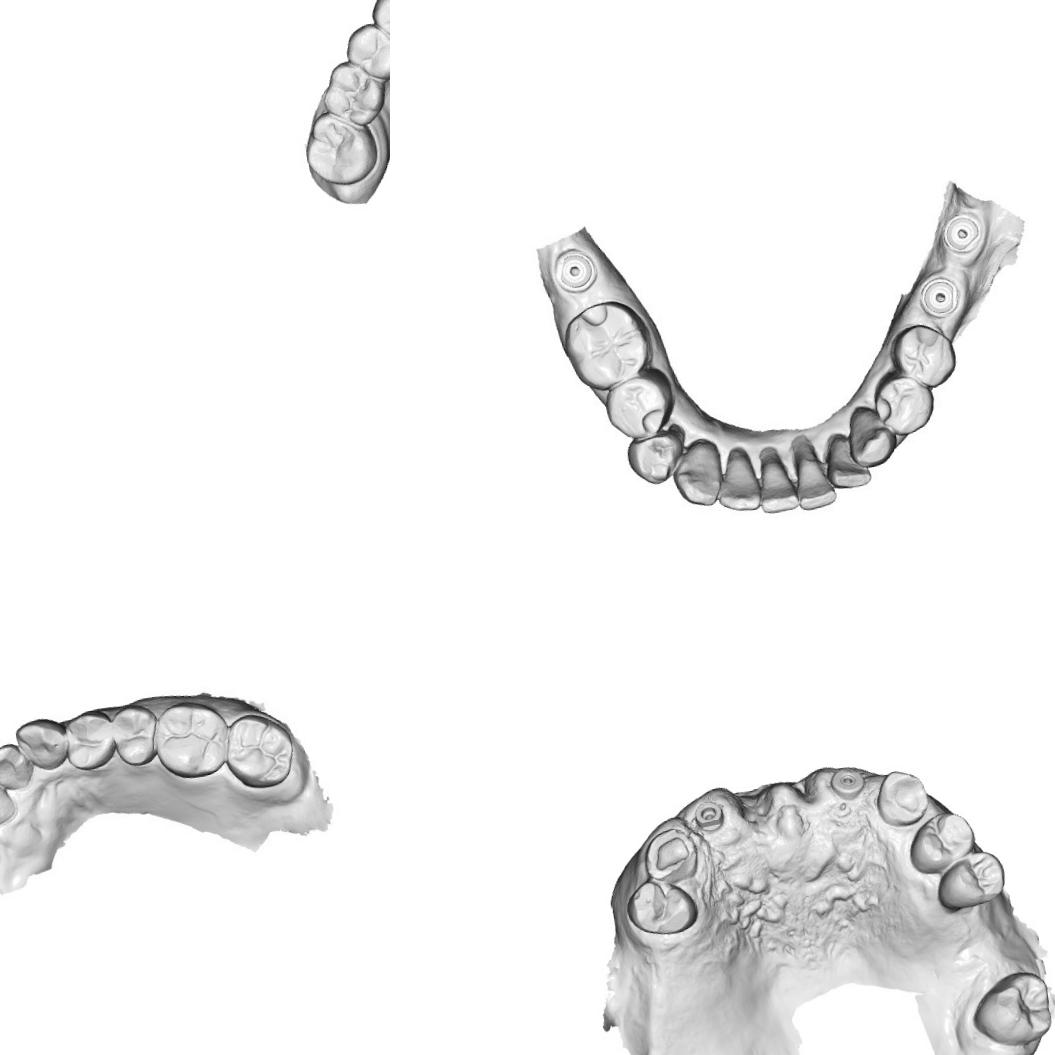canine: (669, 434, 729, 511), (869, 764, 936, 832), (636, 822, 704, 887), (13, 710, 73, 776), (842, 404, 900, 472)
implant: (546, 240, 602, 300), (914, 270, 970, 330), (939, 210, 991, 260), (689, 796, 732, 832), (830, 768, 867, 800)
incisor: (788, 432, 839, 514), (819, 426, 873, 498), (713, 447, 761, 517), (754, 446, 801, 516), (0, 737, 35, 799), (0, 769, 15, 838)
molar: (560, 294, 657, 394), (146, 696, 236, 784), (965, 965, 1055, 1052), (298, 105, 382, 192), (219, 708, 300, 793), (316, 55, 390, 132)
premolar: (885, 317, 961, 394), (620, 872, 702, 942), (930, 846, 1011, 916), (901, 806, 979, 878), (601, 372, 675, 446), (870, 370, 941, 440), (53, 710, 124, 776), (106, 698, 169, 772), (622, 424, 690, 489), (341, 16, 390, 86), (366, 0, 390, 54)
